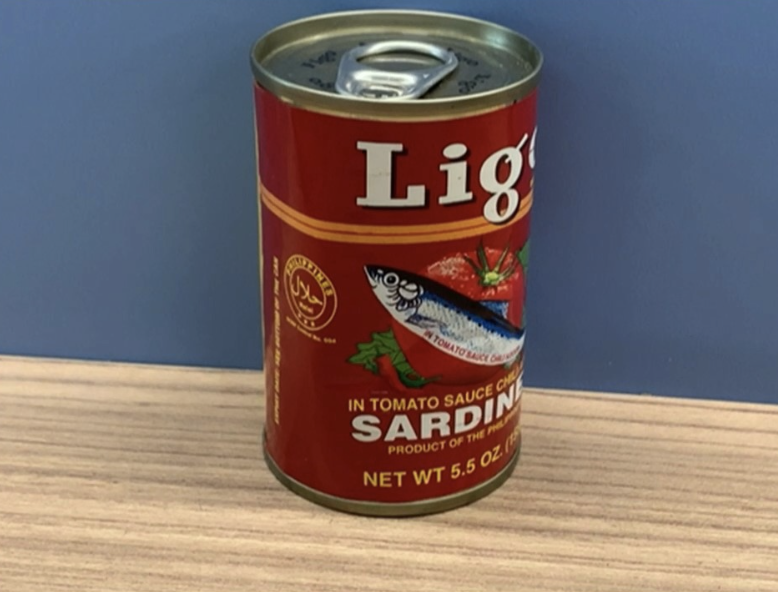sardines_150g: (269, 57, 520, 486)
